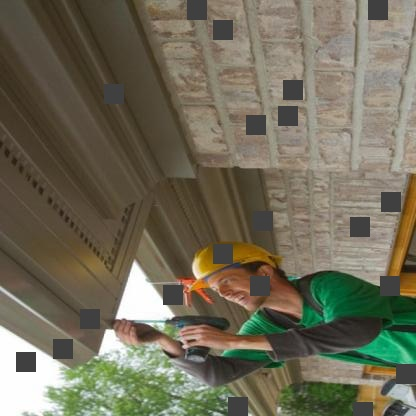yellow: (182, 229, 287, 292)
